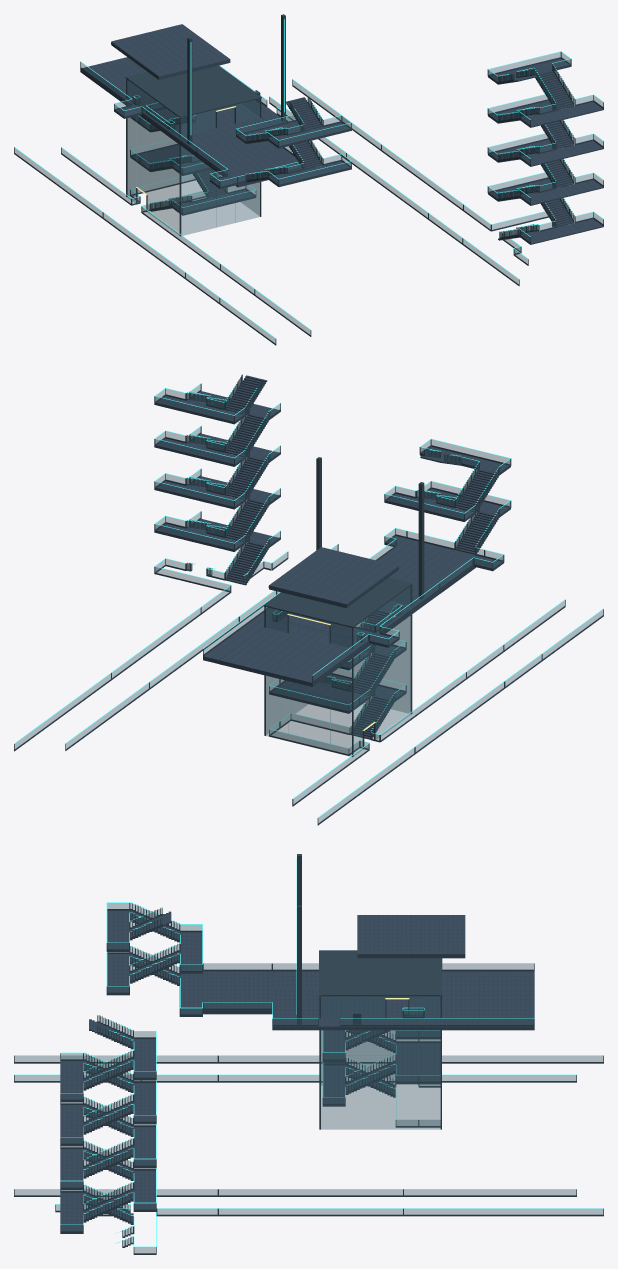
The model's file is v02-detailed-03-06-station-coffered.glb.
3 views of the same model, one above another, from view 1: azimuth 30°, elevation 25°; view 2: azimuth 150°, elevation 25°; view 3: azimuth 270°, elevation 25° (orthographic). The views are drawn at different scales.
Visible parts, largest first — view 1: v02-detailed-03-06-station-coffered; view 2: v02-detailed-03-06-station-coffered; view 3: v02-detailed-03-06-station-coffered.
Boxes of the visible parts, <box> form: v02-detailed-03-06-station-coffered: <box>14,14,603,345</box>; v02-detailed-03-06-station-coffered: <box>14,374,603,825</box>; v02-detailed-03-06-station-coffered: <box>14,854,603,1254</box>.
Size of the model in its own units: 58.79 by 33.53 by 76.5.
5 materials, 1 textured.
